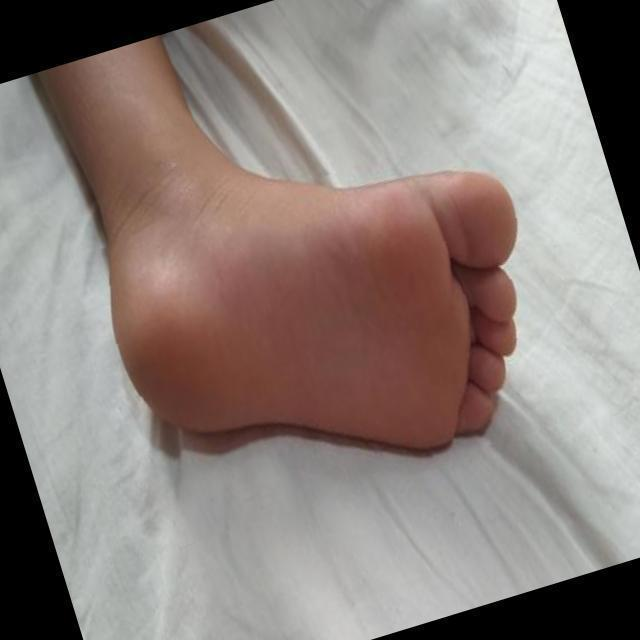No_Shoes: (76, 155, 566, 444)
